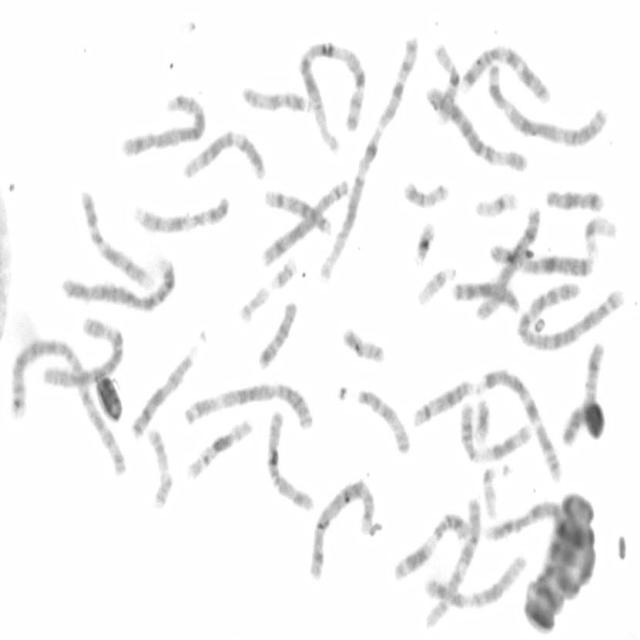A1: (314, 29, 420, 285), (294, 37, 368, 152)
A2: (11, 337, 131, 484), (515, 279, 626, 351)
A3: (484, 60, 609, 149), (180, 378, 317, 432)
B4: (486, 498, 564, 592), (58, 254, 176, 312)
B5: (306, 474, 376, 582), (118, 90, 206, 158)
C10: (421, 494, 483, 632), (263, 405, 315, 513)
C11: (390, 510, 474, 583), (456, 396, 534, 464)
C12: (420, 550, 528, 614), (180, 128, 266, 182)
C6: (423, 83, 528, 173), (39, 314, 125, 391)
C7: (478, 363, 564, 484), (459, 42, 553, 106)
C8: (472, 203, 542, 322), (261, 176, 350, 267)
C9: (78, 185, 156, 293), (130, 193, 233, 236)
D13: (127, 337, 206, 441), (448, 277, 522, 316)
D14: (262, 185, 334, 237), (409, 375, 477, 428)
D15: (354, 384, 412, 456), (239, 81, 312, 115)
E16: (183, 415, 255, 483), (430, 37, 461, 124)
E17: (238, 256, 300, 324), (145, 423, 175, 512)
E18: (255, 297, 298, 372), (542, 184, 604, 213)
F19: (581, 212, 618, 260), (472, 188, 519, 218)
F20: (340, 323, 386, 365), (400, 178, 450, 210)
G21: (411, 217, 436, 265), (472, 394, 492, 443)
G22: (414, 262, 458, 308), (480, 462, 499, 522)
X: (559, 340, 609, 450), (488, 238, 594, 279)
